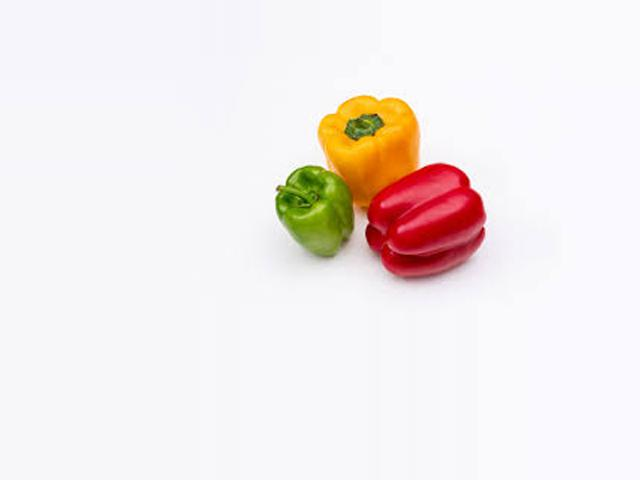bell_pepper: (253, 156, 356, 259)
